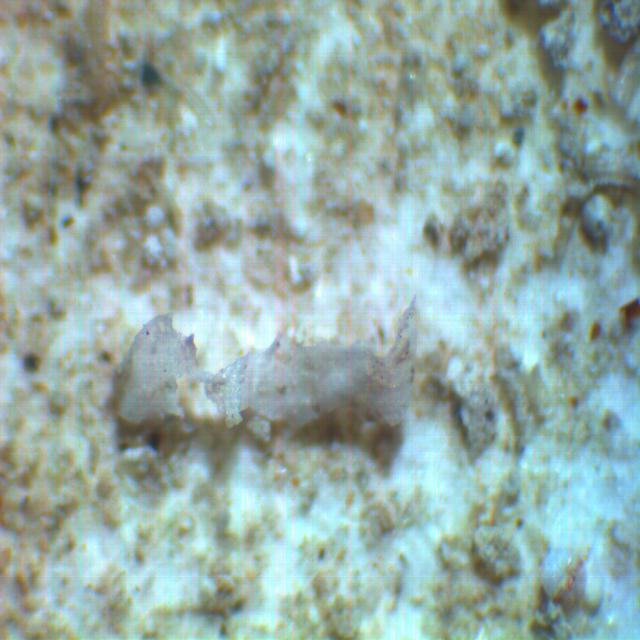microplastic: (116, 297, 420, 431)
